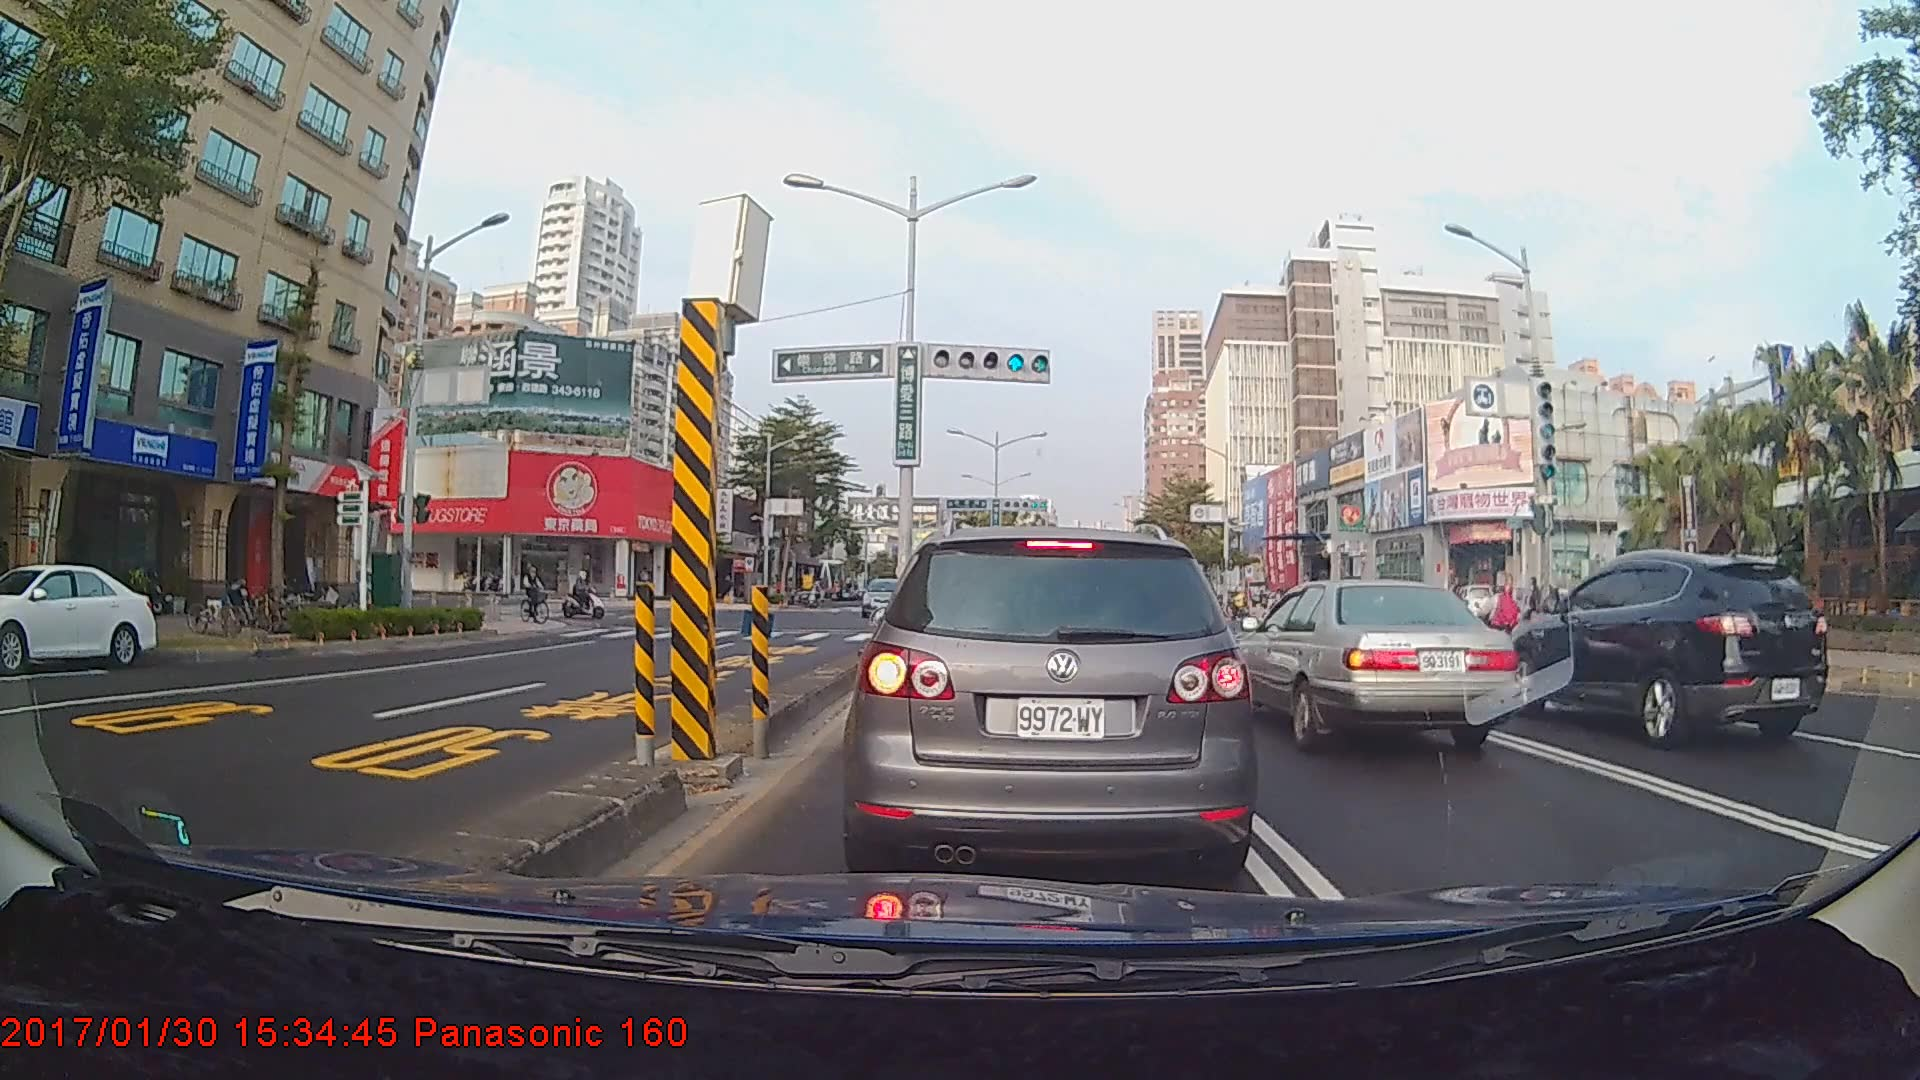rider: (518, 559, 561, 629), (564, 568, 615, 625)
vehicle: (849, 523, 1248, 881), (1507, 547, 1832, 745), (1213, 574, 1519, 755), (0, 561, 162, 671), (860, 577, 914, 619)
